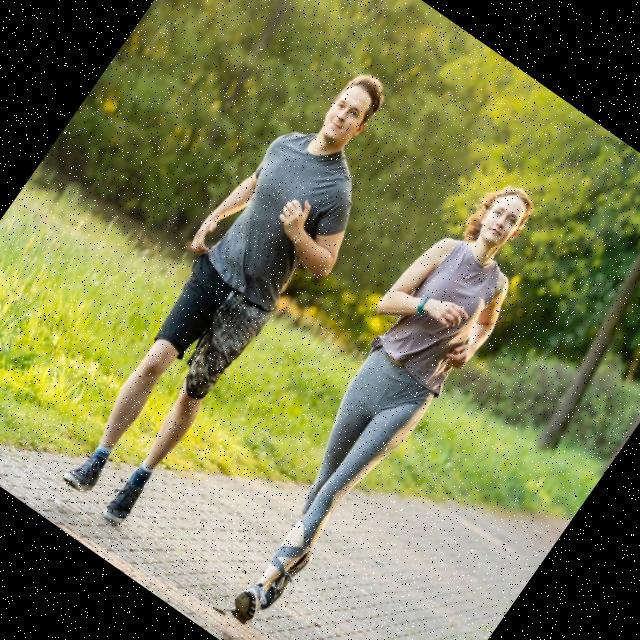Person: (31, 45, 434, 541), (182, 160, 566, 640)
